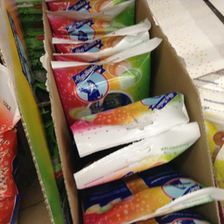candy: (83, 156, 201, 224), (51, 55, 157, 111), (45, 5, 144, 52)
